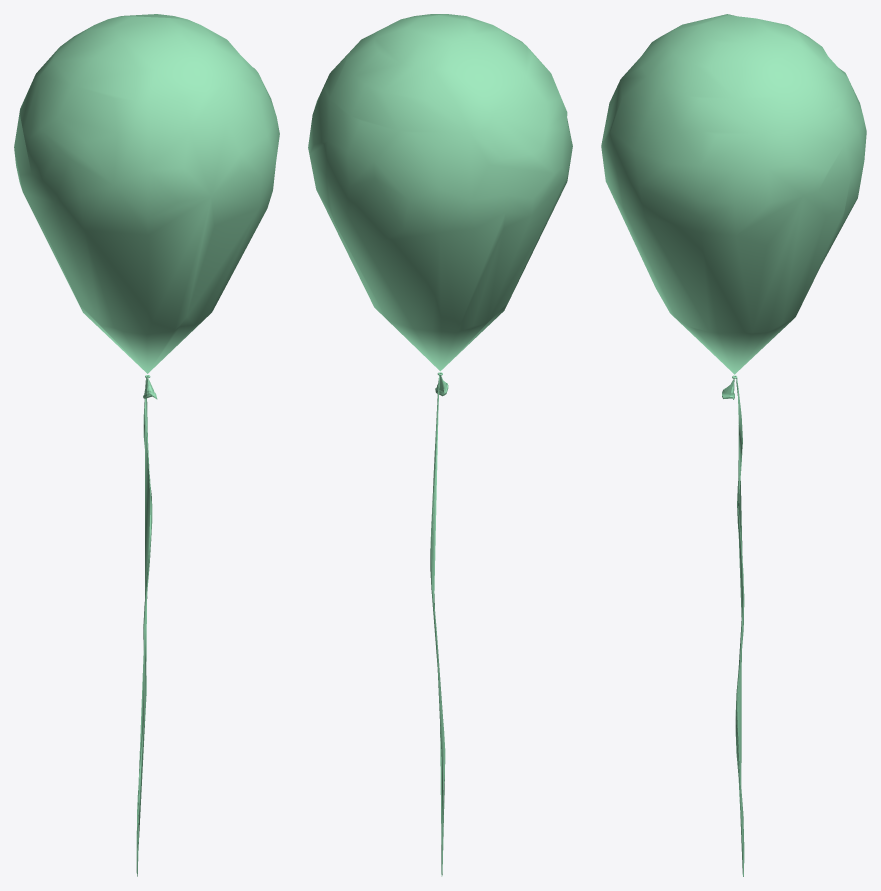
Rendered from balloon_low.obj.
The picture shows the model from 3 angles, left to right: view 1: azimuth 30°, elevation 25°; view 2: azimuth 150°, elevation 25°; view 3: azimuth 270°, elevation 25°; orthographic projection.
Parts seen in each view (by area): view 1: balloon009; view 2: balloon009; view 3: balloon009.
Boxes of the visible parts, <box> form: balloon009: <box>14,14,279,876</box>; balloon009: <box>308,14,572,876</box>; balloon009: <box>601,14,866,876</box>.
Bounding box in the file's own units: 42.27 × 148 × 42.03.
